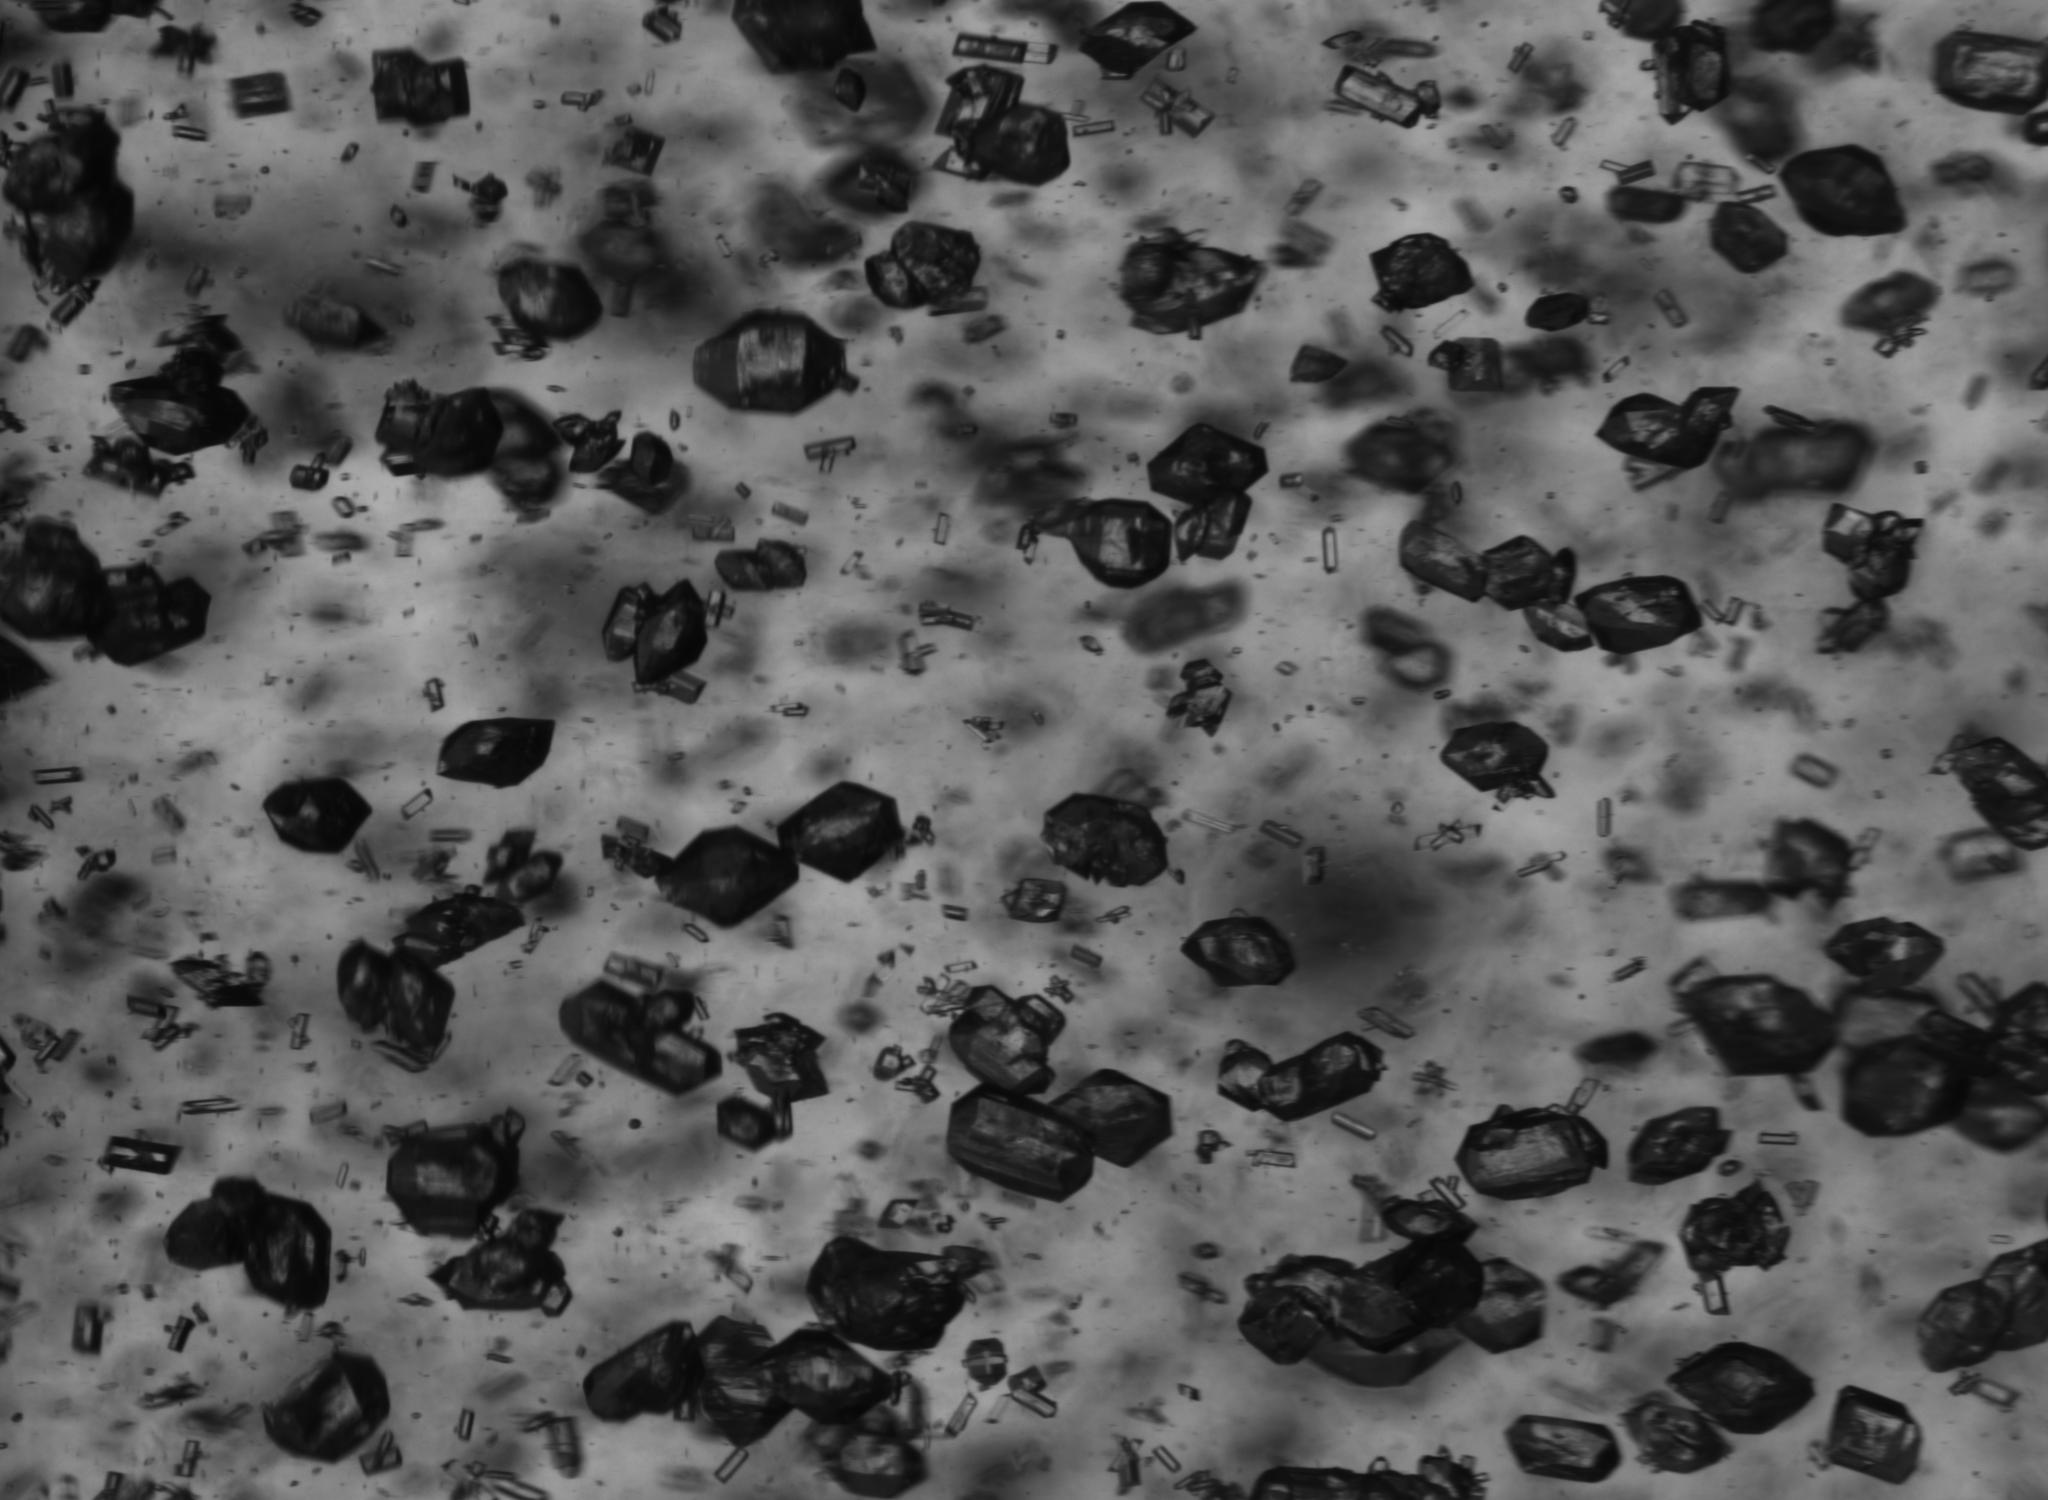crystal: (1237, 1179, 1546, 1387), (0, 517, 210, 666), (584, 1319, 790, 1446), (0, 108, 134, 294), (165, 1177, 332, 1311), (1918, 983, 2048, 1152), (808, 1236, 986, 1352), (560, 975, 720, 1094), (1455, 1078, 1608, 1201), (108, 328, 251, 457), (385, 1112, 523, 1239), (946, 1086, 1096, 1201), (1919, 1239, 2048, 1371), (692, 310, 855, 414), (1674, 975, 1837, 1075), (937, 65, 1070, 186), (1821, 504, 1924, 654), (432, 1206, 571, 1315), (337, 942, 455, 1071), (1679, 1180, 1790, 1315), (1118, 231, 1261, 336), (1218, 1031, 1383, 1121), (262, 1349, 391, 1463), (655, 827, 798, 927), (1596, 387, 1738, 485), (1668, 1343, 1814, 1435), (948, 986, 1065, 1096), (776, 783, 905, 881), (762, 1330, 895, 1424), (1843, 1036, 1965, 1136), (1941, 736, 2048, 851), (377, 380, 502, 477), (1046, 1071, 1170, 1168), (1250, 1449, 1485, 1500), (1041, 794, 1167, 888), (809, 1400, 925, 1500), (1779, 145, 1905, 237), (1040, 499, 1172, 587), (604, 581, 709, 686), (865, 221, 984, 313), (393, 888, 525, 967), (731, 0, 875, 73), (1576, 576, 1701, 655), (1934, 29, 2048, 115), (1148, 423, 1267, 504), (1824, 1385, 1921, 1484), (1080, 0, 1196, 80), (1441, 721, 1552, 802), (733, 1013, 827, 1109), (498, 258, 603, 340), (1622, 1395, 1730, 1473), (264, 776, 372, 854), (1824, 916, 1943, 986), (437, 717, 555, 787), (1627, 1107, 1732, 1185), (1841, 272, 1938, 356), (370, 48, 471, 129), (1371, 232, 1472, 312), (1183, 915, 1296, 986), (1364, 608, 1453, 698), (1654, 21, 1732, 121), (1506, 1416, 1620, 1483), (1399, 515, 1487, 601), (596, 433, 687, 514), (1558, 1241, 1663, 1311), (1331, 64, 1441, 127), (1479, 536, 1574, 609), (84, 434, 192, 496), (485, 829, 561, 905), (1709, 202, 1787, 274), (1175, 492, 1250, 562), (1166, 657, 1231, 735), (172, 956, 264, 1008), (716, 539, 806, 592), (716, 1094, 793, 1152), (1428, 337, 1506, 393), (552, 412, 623, 472), (520, 1411, 584, 1478), (1140, 78, 1212, 137), (126, 994, 199, 1050), (1676, 170, 1778, 208), (1523, 600, 1592, 652), (952, 32, 1057, 65), (17, 1016, 80, 1072), (450, 1465, 549, 1500), (99, 1134, 181, 1176), (603, 832, 674, 878), (1608, 183, 1687, 224), (604, 121, 665, 173), (154, 24, 216, 75), (876, 1195, 956, 1233), (1002, 876, 1067, 923), (917, 969, 978, 1018), (229, 72, 291, 118), (243, 511, 305, 557), (1948, 1371, 2019, 1411), (1525, 293, 1590, 332), (1007, 1366, 1057, 1417), (603, 953, 669, 991), (962, 1338, 1007, 1390), (463, 172, 507, 224), (1290, 344, 1347, 383), (892, 1061, 940, 1104), (1358, 1005, 1415, 1040), (803, 436, 857, 472), (142, 1378, 204, 1409), (72, 1303, 110, 1354), (1417, 821, 1480, 851), (1787, 752, 1840, 789), (359, 1430, 402, 1475), (1110, 1436, 1142, 1495), (940, 1392, 979, 1438), (642, 0, 682, 43), (898, 631, 937, 676), (871, 1045, 917, 1082), (917, 601, 975, 630), (712, 1444, 752, 1484), (1410, 1061, 1452, 1098), (833, 67, 867, 111), (49, 293, 89, 329), (1258, 819, 1305, 849), (178, 1096, 240, 1118), (1601, 161, 1655, 186), (1331, 1112, 1379, 1141), (1515, 853, 1565, 880), (1194, 1129, 1231, 1164), (289, 460, 329, 492), (1065, 943, 1104, 975), (164, 1314, 196, 1352), (401, 786, 434, 821), (547, 1051, 580, 1086), (1151, 1444, 1183, 1481), (78, 848, 116, 878), (173, 1440, 202, 1479), (1247, 1147, 1297, 1169), (32, 765, 84, 786), (1380, 324, 1414, 356), (766, 913, 795, 950), (1016, 522, 1041, 562), (560, 89, 604, 111), (310, 1101, 348, 1126), (1320, 525, 1339, 574), (1550, 116, 1577, 150), (1507, 41, 1534, 75), (771, 501, 808, 525), (906, 814, 933, 846), (1595, 797, 1616, 838), (1072, 119, 1116, 138), (289, 0, 323, 25), (289, 1013, 310, 1050), (421, 678, 444, 711), (428, 829, 472, 845), (455, 1408, 475, 1441), (29, 803, 54, 830), (932, 511, 951, 546), (170, 124, 208, 142), (682, 921, 711, 943), (1755, 1131, 1798, 1145), (331, 496, 356, 519), (401, 1293, 436, 1308), (390, 204, 410, 227), (941, 903, 968, 921), (1051, 412, 1078, 429), (1717, 1158, 1743, 1176), (778, 703, 808, 717), (334, 1163, 350, 1188), (574, 1071, 596, 1088), (1178, 1384, 1200, 1401), (1275, 660, 1297, 676)
